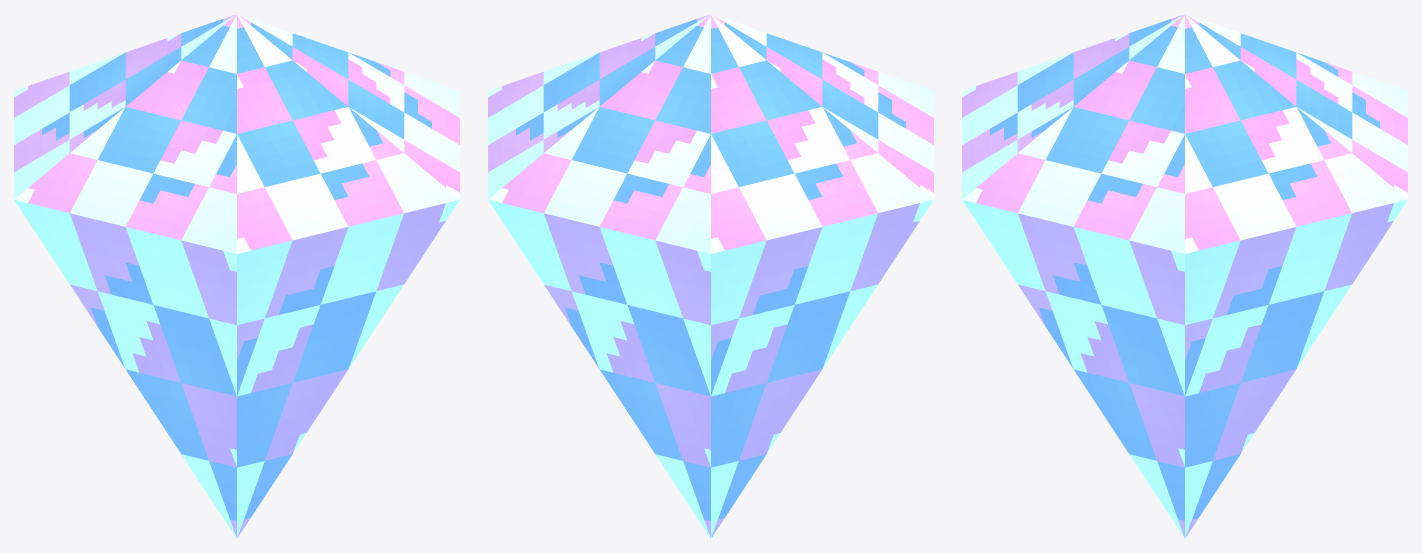
File: diamond.glb
3 renders of one model, left to right at view 1: azimuth 30°, elevation 25°; view 2: azimuth 150°, elevation 25°; view 3: azimuth 270°, elevation 25°, orthographic.
Visible parts, largest first — view 1: Diamond; view 2: Diamond; view 3: Diamond.
Part boxes in pixels (bbox=[...]): Diamond: bbox=[14, 14, 459, 538]; Diamond: bbox=[488, 14, 933, 538]; Diamond: bbox=[962, 14, 1407, 538].
Size of the model in its own units: 0.64 by 0.72 by 0.5543.
1 material, 1 textured.
